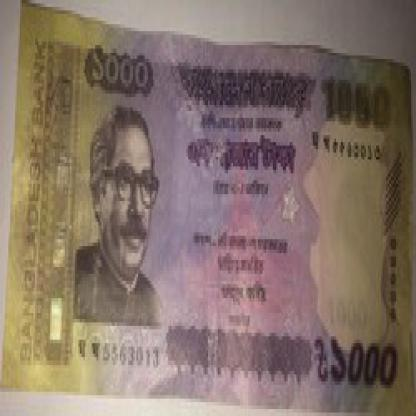One Thousand taka: (311, 333, 406, 395), (320, 76, 396, 132), (87, 48, 153, 94)
